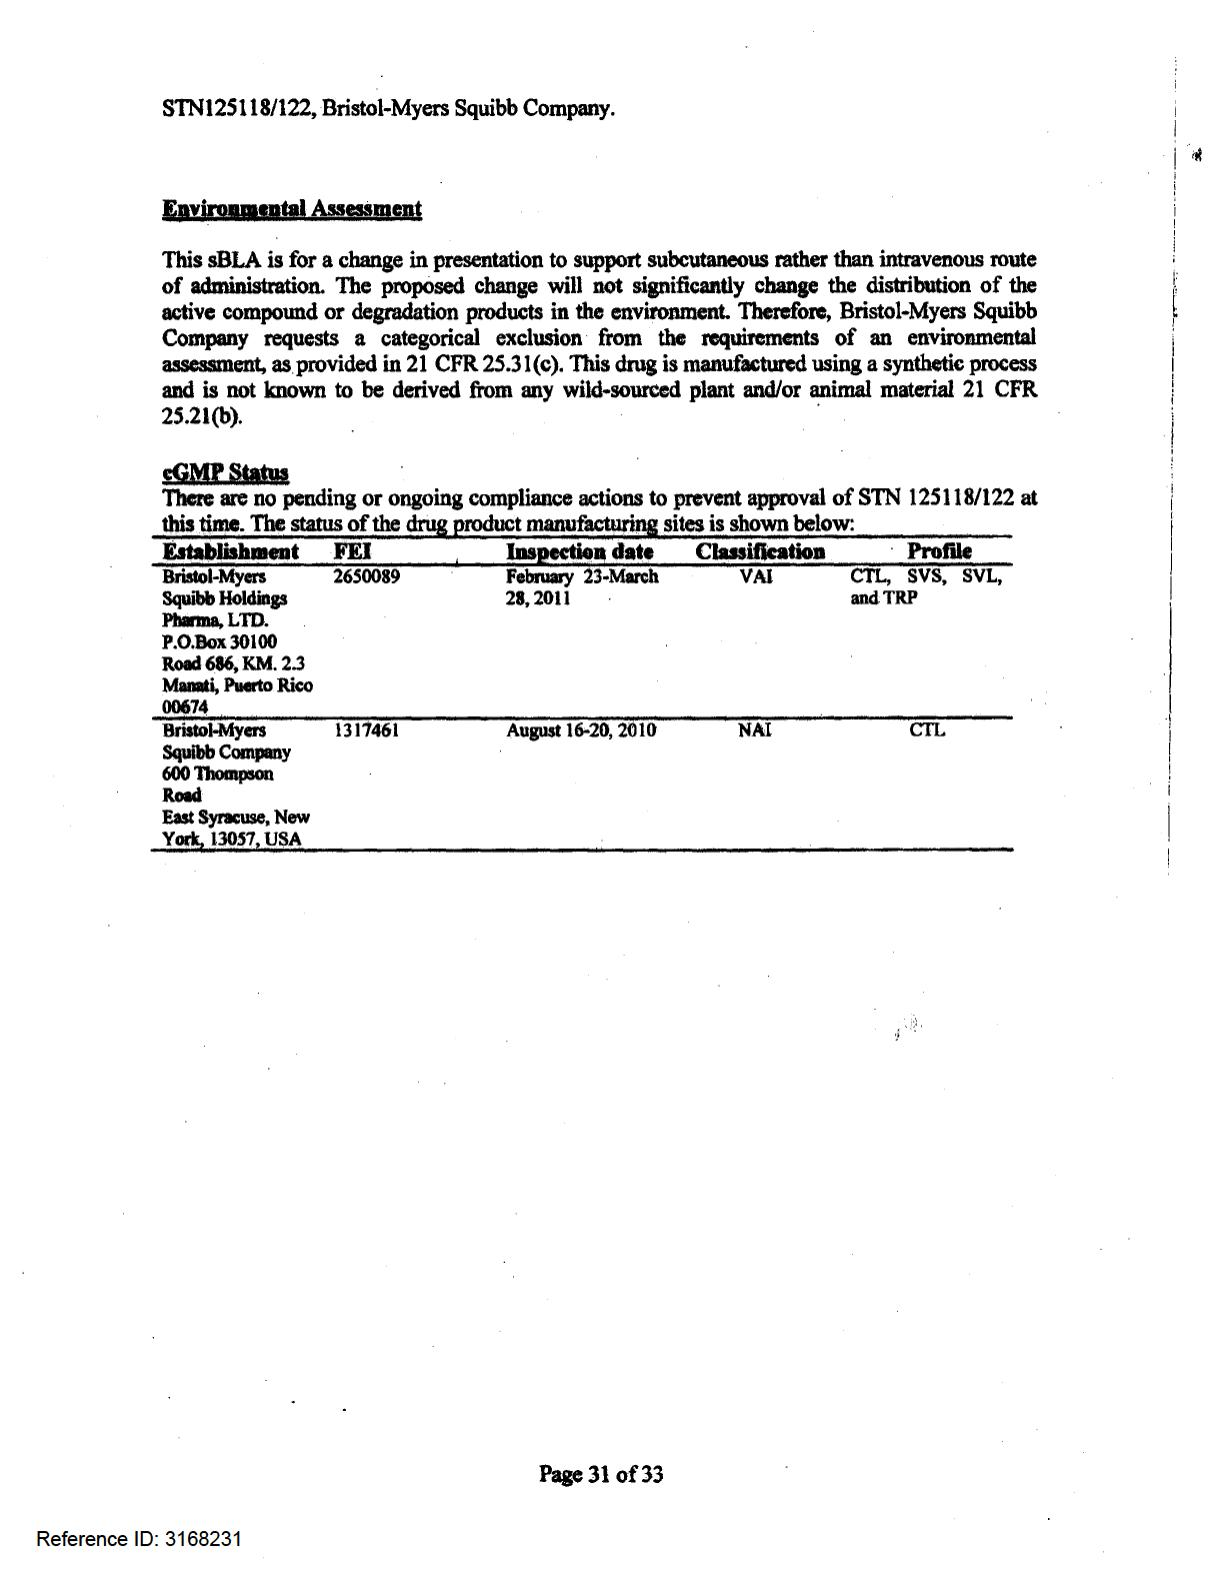partial_lined: (150, 533, 1013, 853)
